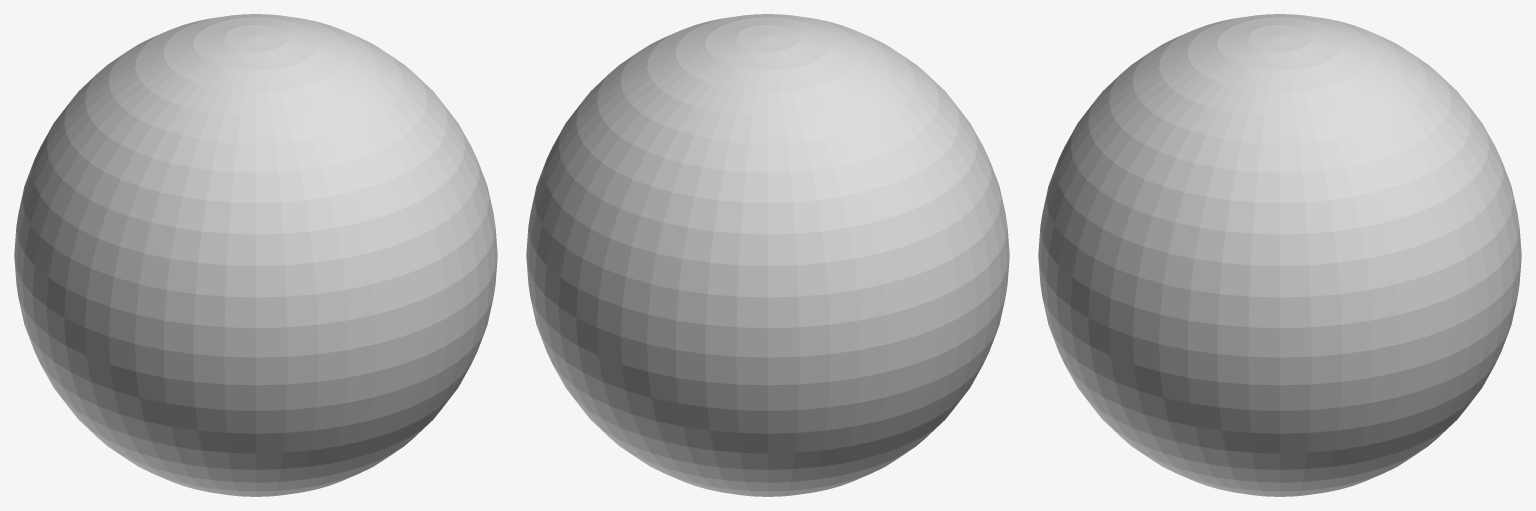
File: canica.obj
3 renders of one model, left to right at view 1: azimuth 30°, elevation 25°; view 2: azimuth 150°, elevation 25°; view 3: azimuth 270°, elevation 25°, orthographic.
Parts seen in each view (by area): view 1: Canica.001; view 2: Canica.001; view 3: Canica.001.
Boxes of the visible parts, <box> form: Canica.001: <box>14,14,497,496</box>; Canica.001: <box>526,14,1009,496</box>; Canica.001: <box>1038,14,1521,496</box>.
Size of the model in its own units: 0.1478 by 0.1478 by 0.1478.
Materials: 1 (1 with a texture image).
